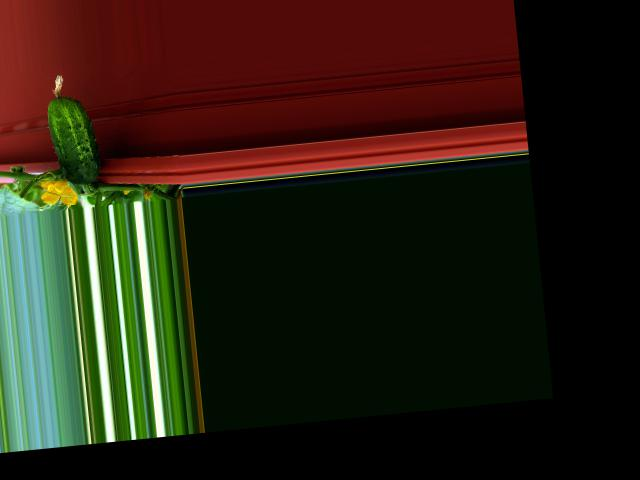cucumber: (42, 71, 101, 188)
